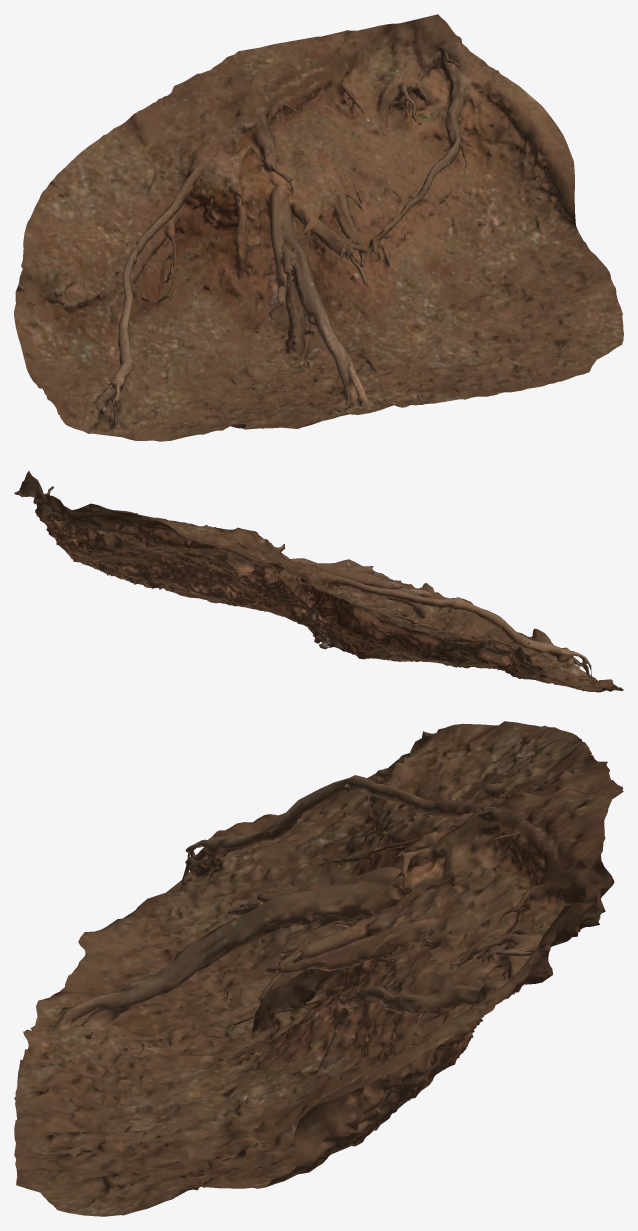
Rendered from root_cluster_01.d55d529863.glb.
3 views of the same model, one above another, from view 1: azimuth 30°, elevation 25°; view 2: azimuth 150°, elevation 25°; view 3: azimuth 270°, elevation 25° (orthographic). The views are drawn at different scales.
Parts seen in each view (by area): view 1: root_cluster_01; view 2: root_cluster_01; view 3: root_cluster_01.
Boxes of the visible parts, bbox=[...] form: root_cluster_01: bbox=[14, 14, 623, 441]; root_cluster_01: bbox=[14, 470, 623, 692]; root_cluster_01: bbox=[14, 721, 623, 1216].
Size of the model in its own units: 4.12 by 1.51 by 2.68.
1 material, 1 textured.
